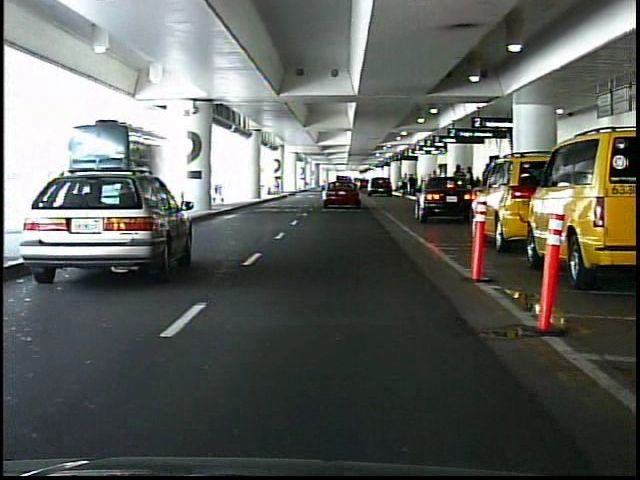person: (451, 163, 467, 208), (463, 165, 477, 210), (401, 172, 410, 196), (409, 173, 416, 196)
